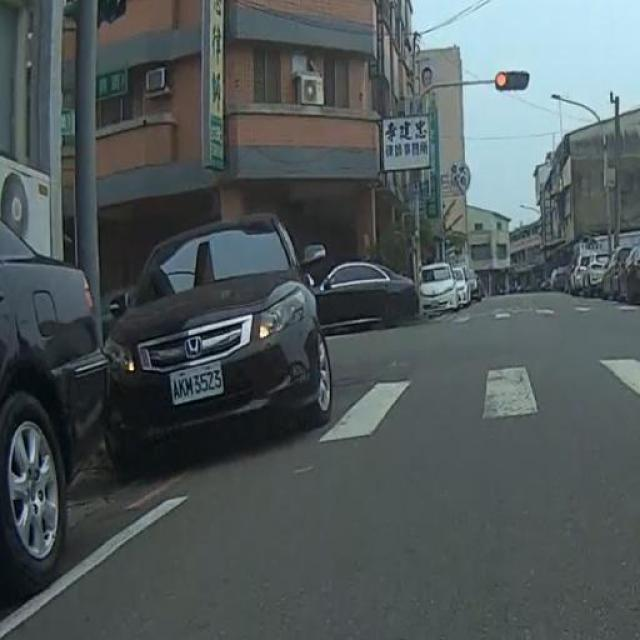Legalparking: (550, 234, 639, 301), (421, 262, 462, 310), (454, 266, 481, 304)
illegalparking: (105, 214, 418, 471)
